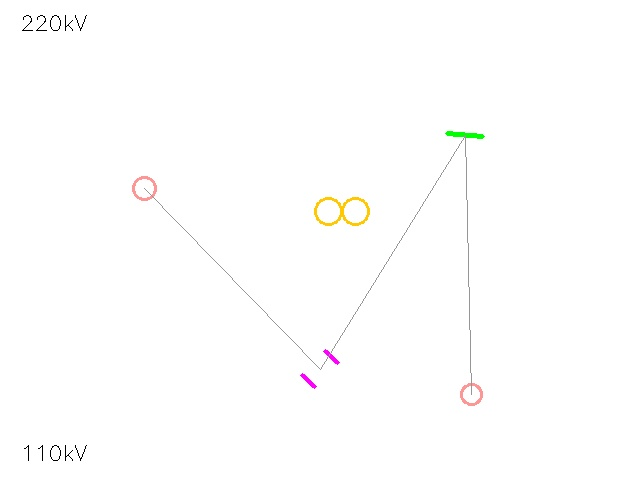busbar: (443, 113, 487, 157)
capacitor: (293, 342, 347, 396)
feeder_terminal: (122, 166, 166, 210)
surge_arrester: (450, 373, 492, 415)
transformer_2w: (308, 177, 376, 245)
